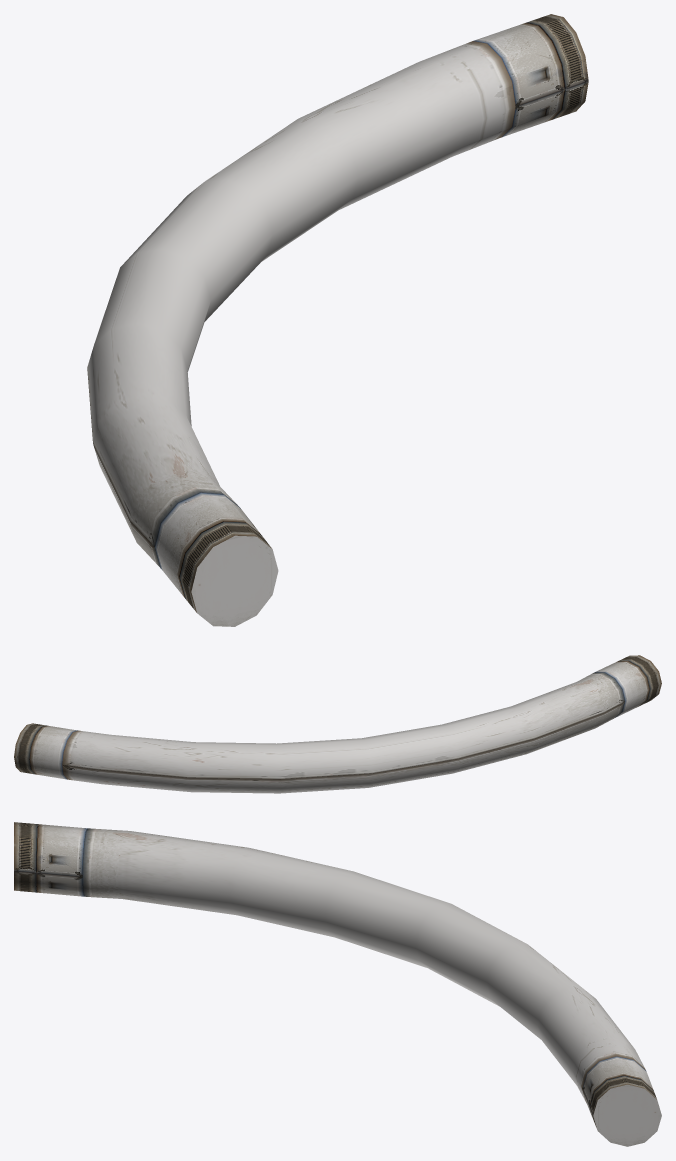
File: scifi_pipe_small_curve2_2.FBX
3 views of the same model, one above another, from view 1: azimuth 30°, elevation 25°; view 2: azimuth 150°, elevation 25°; view 3: azimuth 270°, elevation 25° (orthographic). The views are drawn at different scales.
Visible parts, largest first — view 1: Cylinder034; view 2: Cylinder034; view 3: Cylinder034.
Part boxes in pixels (x1=…): Cylinder034: x1=87, y1=14, x2=588, y2=626; Cylinder034: x1=14, y1=655, x2=661, y2=793; Cylinder034: x1=14, y1=822, x2=661, y2=1146.
Bounding box in the file's own units: 241 × 25.62 × 241.
